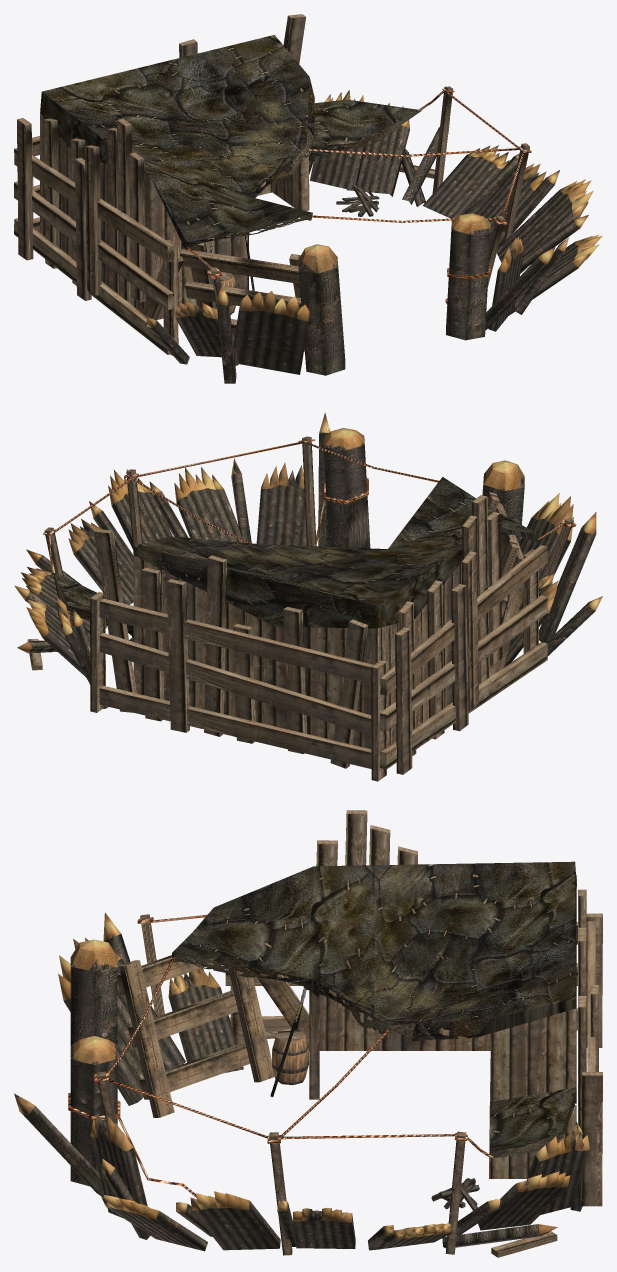
Rendered from building_bandit_camp.glb.
3 views of the same model, one above another, from view 1: azimuth 30°, elevation 25°; view 2: azimuth 150°, elevation 25°; view 3: azimuth 270°, elevation 25° (orthographic). The views are drawn at different scales.
Parts seen in each view (by area): view 1: building_bandit_camp; view 2: building_bandit_camp; view 3: building_bandit_camp.
Boxes of the visible parts, x1,y1,x2,y2 form: building_bandit_camp: (14,14,602,383); building_bandit_camp: (14,412,602,781); building_bandit_camp: (14,810,602,1257).
Size of the model in its own units: 15.51 by 6.59 by 14.03.
Materials: 8 (8 with a texture image).
